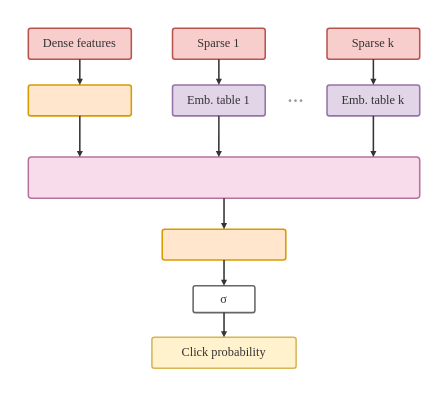
The diagram is 447 pixels wide and 396 high, and some of its shapes have lost their labels. Here are the shapes that lost their labels. From the top down, the centre of each, then its label:
At pixel 79 100: "Bottom MLP".
At pixel 223 177: "Feature interaction: pairwise dot products, concatenated with the dense vector".
At pixel 223 244: "Top MLP".
